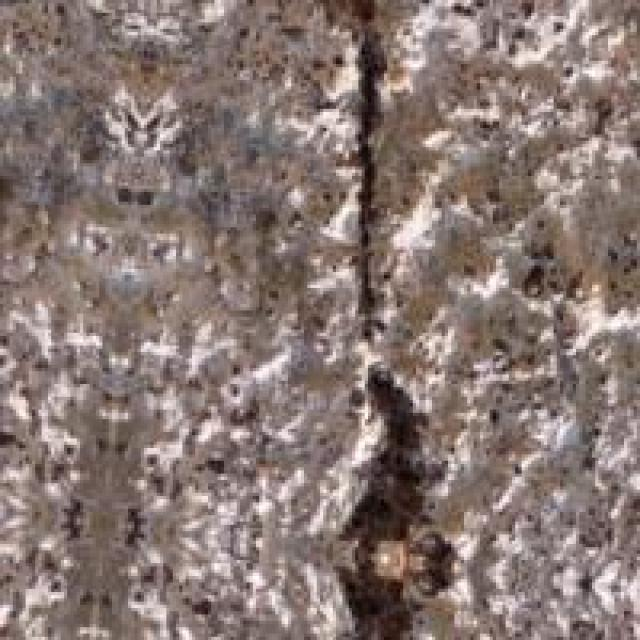crack: (294, 26, 500, 636)
